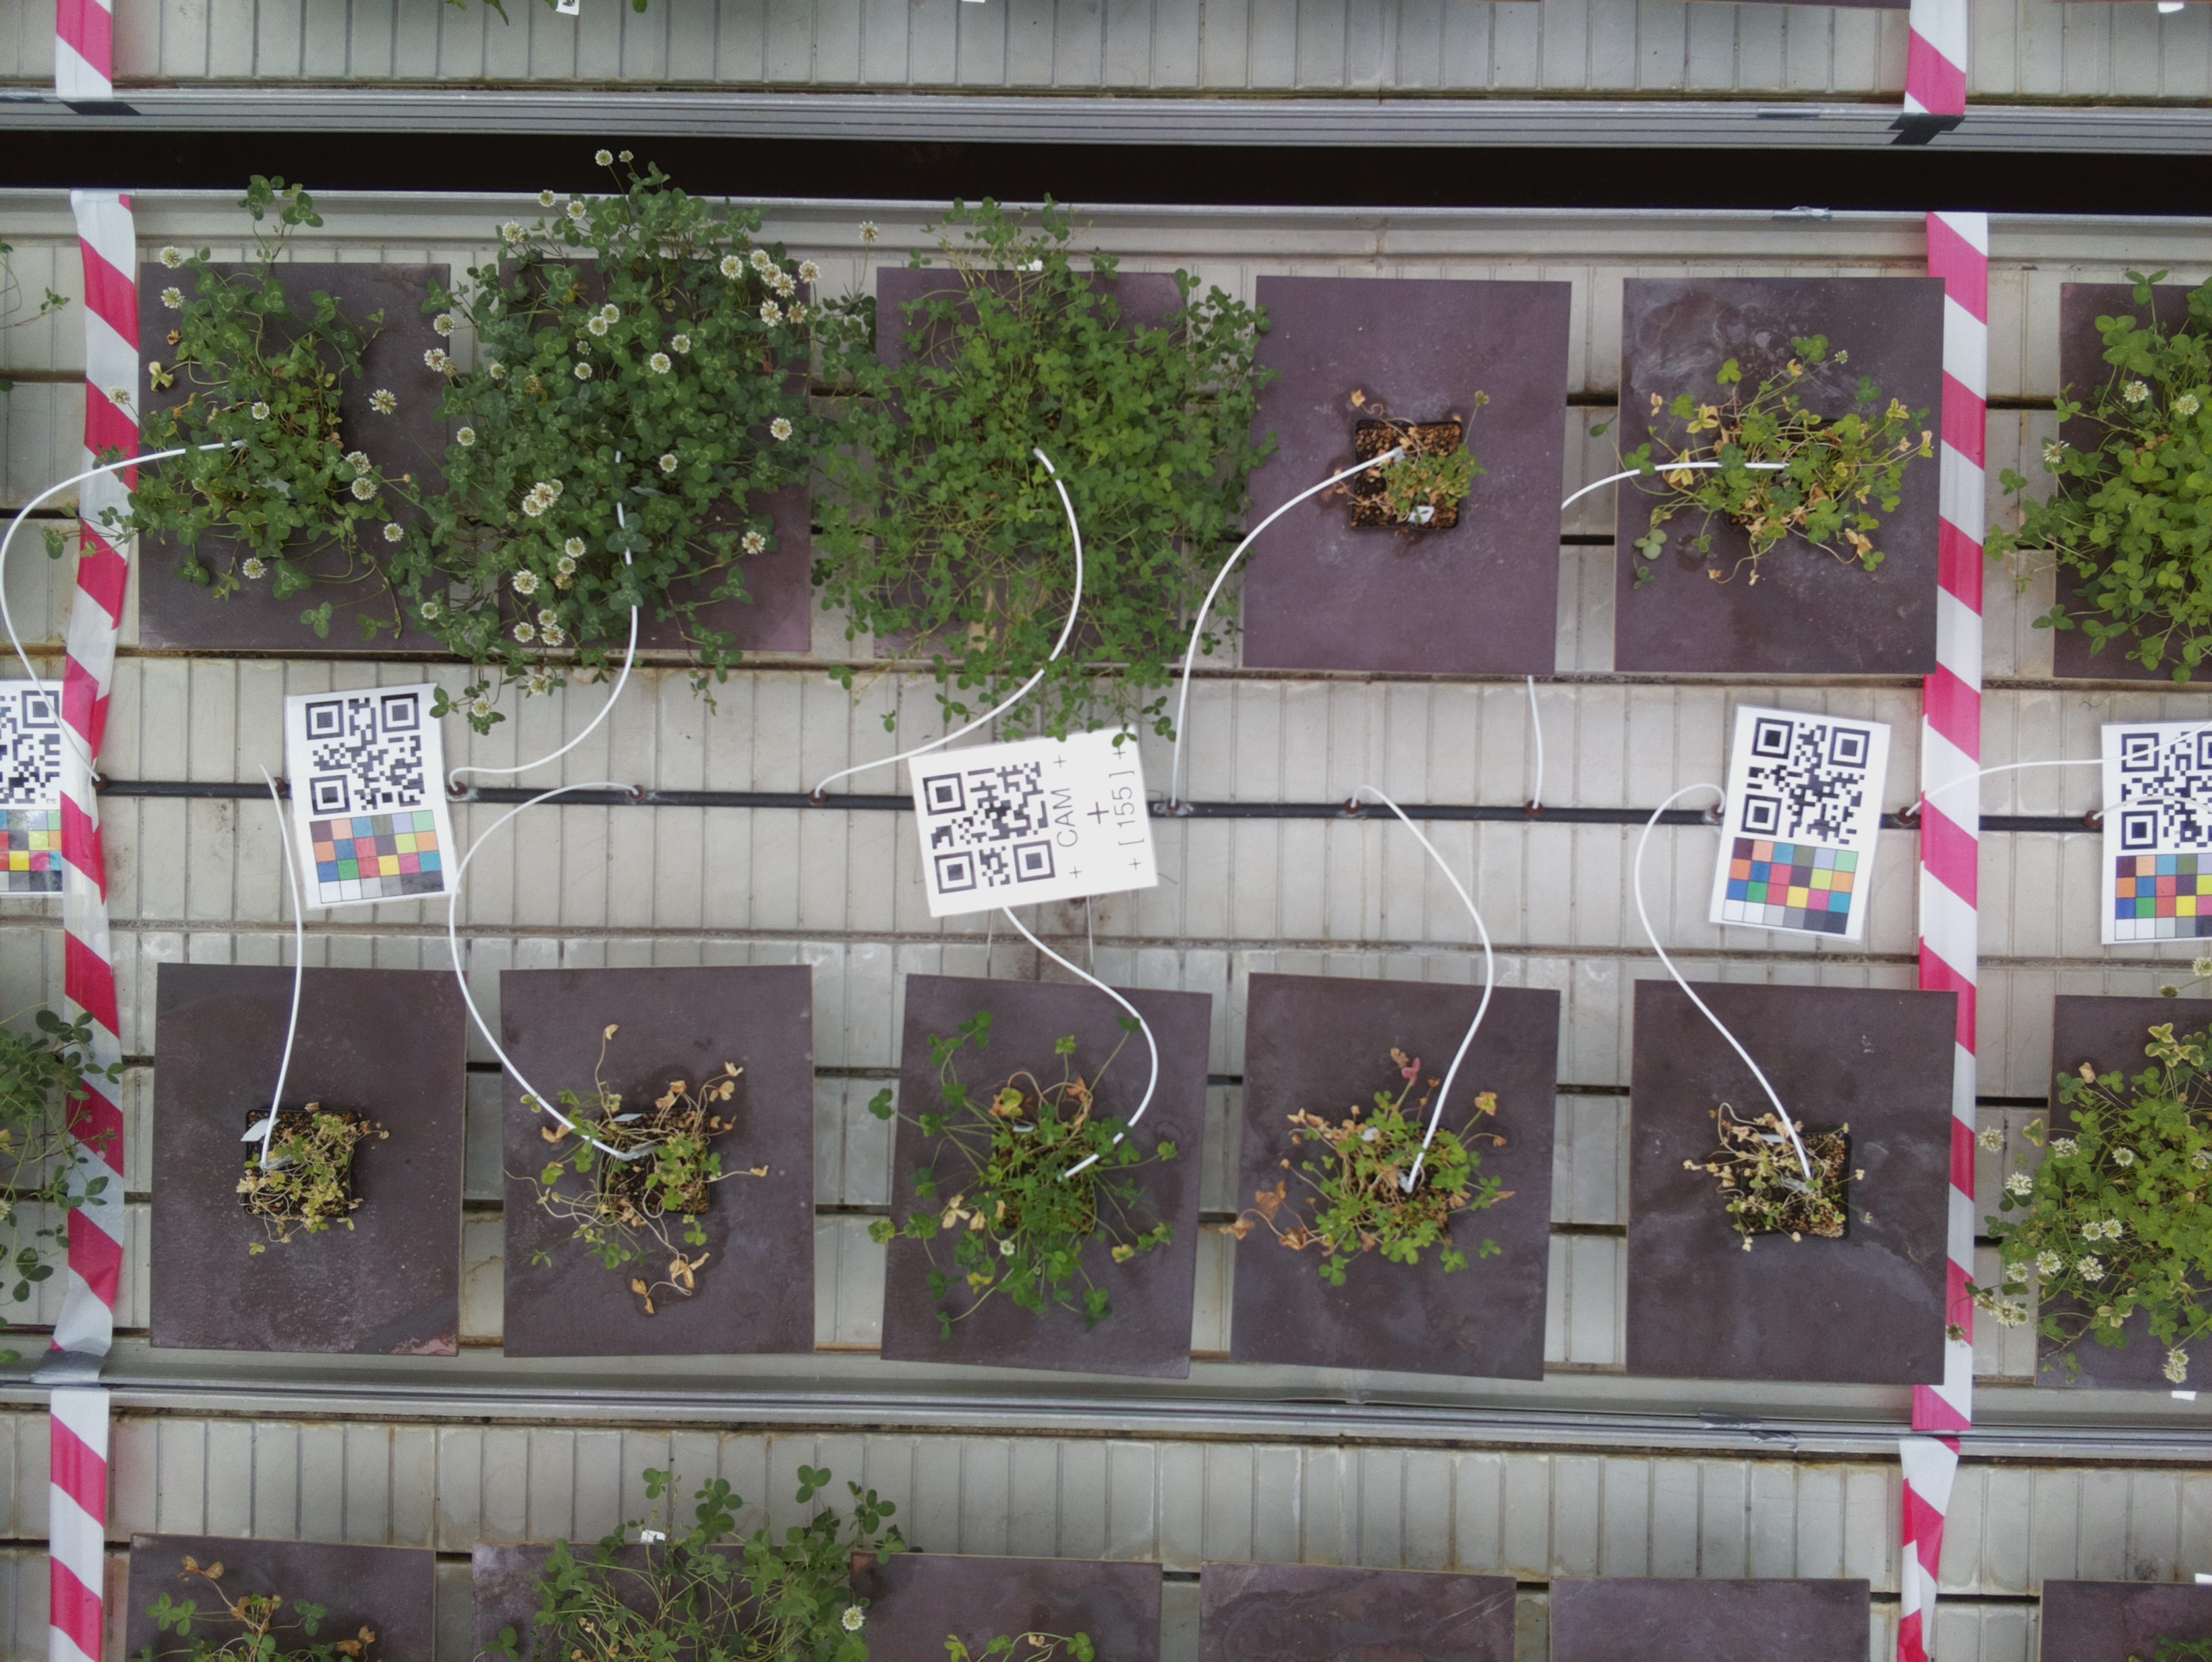POT: (494, 262, 815, 651), (501, 965, 819, 1358), (152, 960, 464, 1358), (1636, 983, 1945, 1383), (141, 258, 457, 648), (876, 269, 1185, 665), (876, 988, 1213, 1351), (1625, 279, 1938, 670), (1252, 976, 1549, 1386), (1255, 279, 1554, 676)
QRCODE: (906, 721, 1166, 924)
QRCOLOR: (279, 691, 464, 911), (1711, 711, 1887, 937), (2100, 716, 2212, 944)
